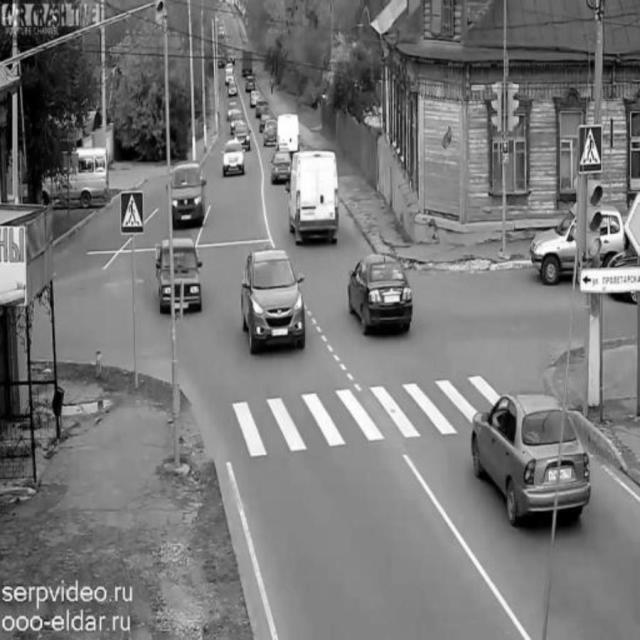vehicle: (475, 388, 586, 532), (529, 205, 630, 283), (240, 251, 302, 349), (350, 251, 412, 339), (288, 150, 342, 242), (149, 237, 203, 313), (39, 146, 110, 202), (167, 163, 204, 230), (276, 109, 301, 145), (271, 147, 295, 183), (222, 142, 246, 178), (263, 117, 280, 147), (242, 49, 257, 79), (253, 96, 270, 120), (230, 110, 246, 134), (223, 70, 237, 85)
